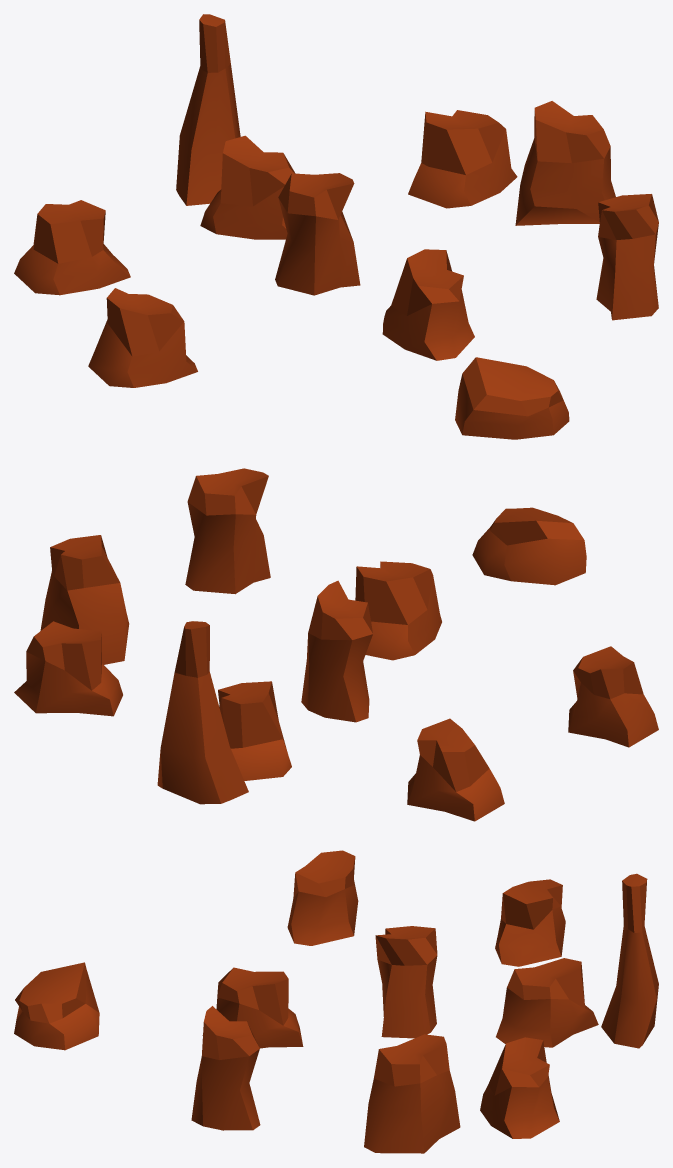
The model's file is DesertRock.fbx.
The picture shows the model from 3 angles, top to bottom: view 1: azimuth 30°, elevation 25°; view 2: azimuth 150°, elevation 25°; view 3: azimuth 270°, elevation 25°; orthographic projection. The views are drawn at different scales.
Parts seen in each view (by area): view 1: Box858, Box1125, Box857, Box1130, Box852, Box850, Box856, Box851, Box854, Box853; view 2: Box1130, Box854, Box1125, Box857, Box858, Box850, Box851, Box856, Box852, Box853; view 3: Box858, Box854, Box853, Box1125, Box1130, Box850, Box857, Box852, Box856, Box851.
Boxes of the visible parts, x1,y1,x2,y2 form: Box858: (515, 101, 615, 225); Box1125: (275, 173, 360, 295); Box857: (408, 110, 517, 208); Box1130: (176, 14, 240, 205); Box852: (88, 288, 197, 387); Box850: (455, 357, 569, 439); Box856: (14, 200, 130, 295); Box851: (382, 249, 474, 360); Box854: (596, 194, 658, 320); Box853: (200, 135, 295, 239); Box1130: (157, 621, 248, 804); Box854: (185, 468, 270, 594); Box1125: (301, 580, 372, 722); Box857: (14, 621, 122, 716); Box858: (40, 535, 129, 664); Box850: (472, 507, 586, 585); Box851: (355, 561, 441, 660); Box856: (407, 718, 504, 821); Box852: (568, 646, 658, 747); Box853: (218, 681, 291, 780); Box858: (364, 1034, 460, 1153); Box854: (191, 1006, 260, 1130); Box853: (496, 958, 598, 1047); Box1125: (375, 926, 437, 1038); Box1130: (601, 873, 658, 1048); Box850: (14, 962, 99, 1050); Box857: (480, 1037, 559, 1138); Box852: (287, 850, 358, 945); Box856: (495, 879, 565, 966); Box851: (202, 967, 303, 1048).
Size of the model in its own units: 39309 by 11539 by 43512.
